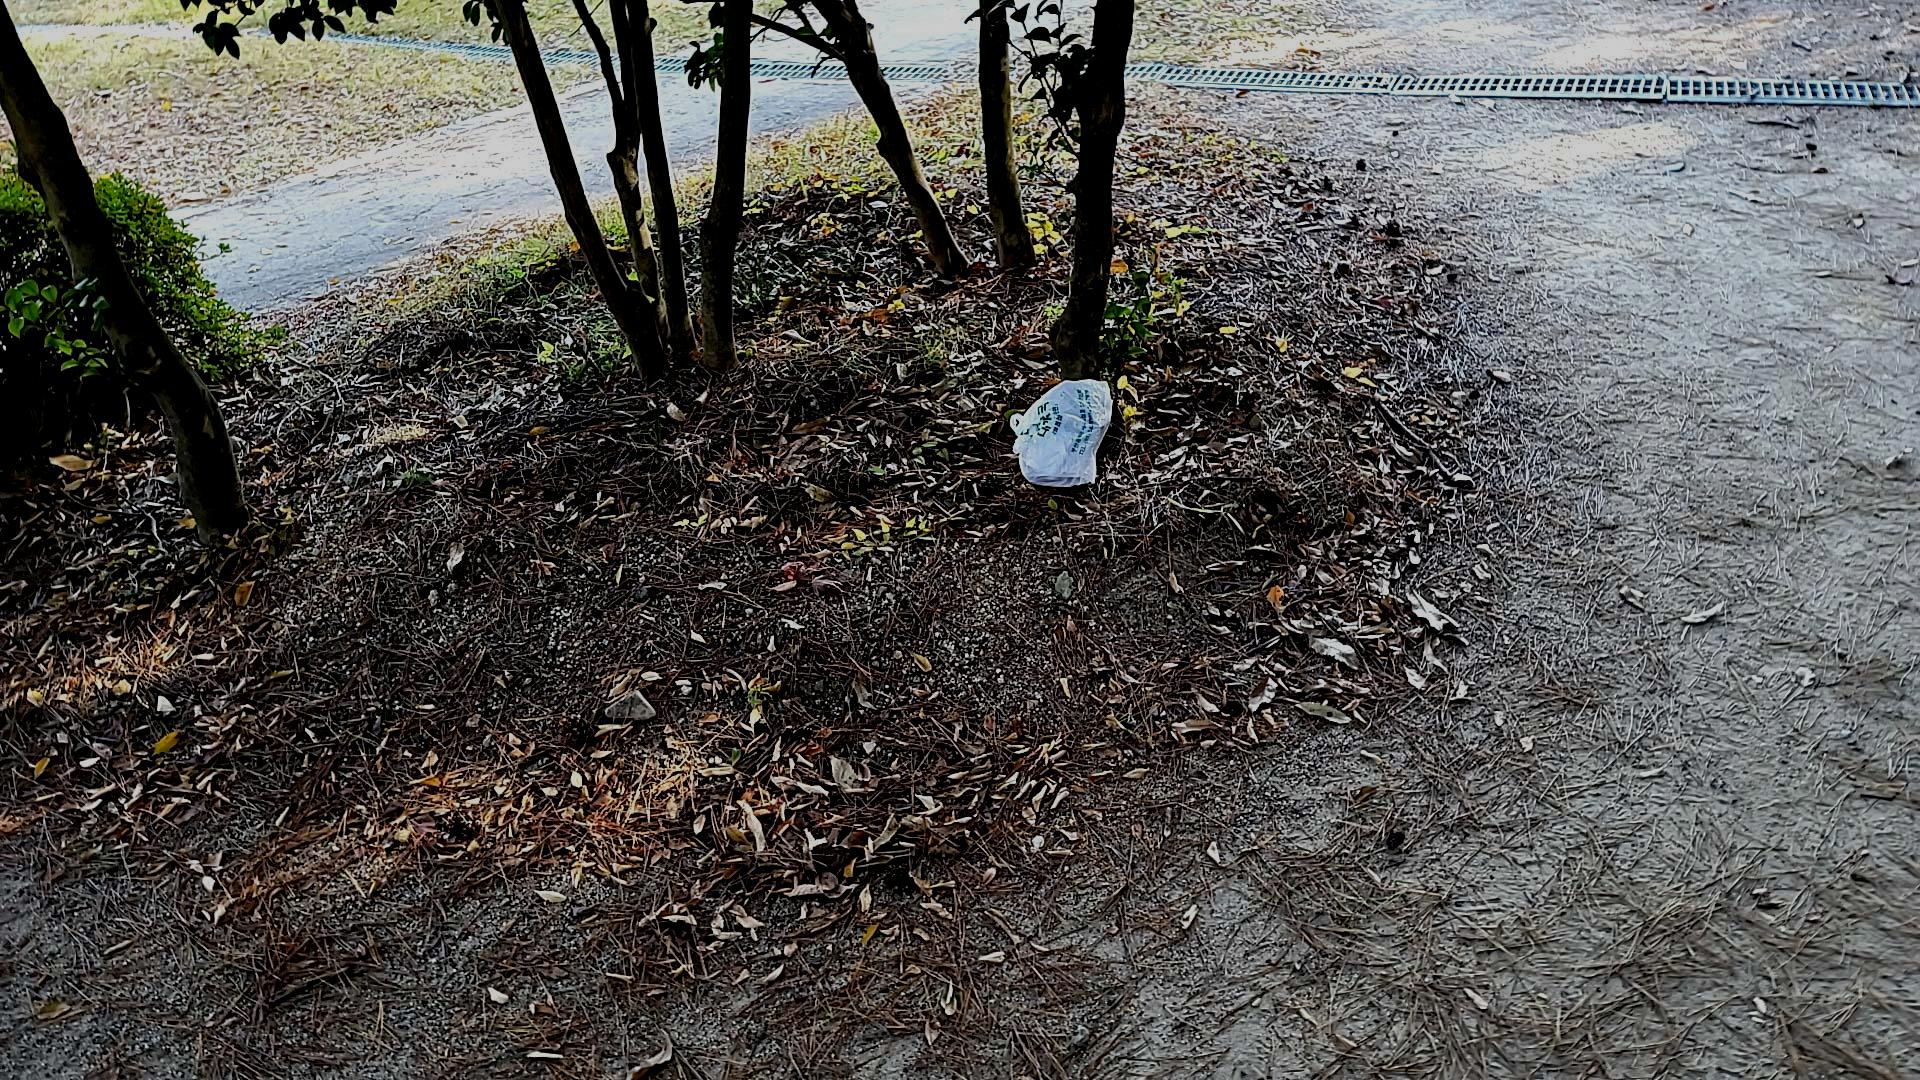white_bag: (996, 371, 1113, 492)
